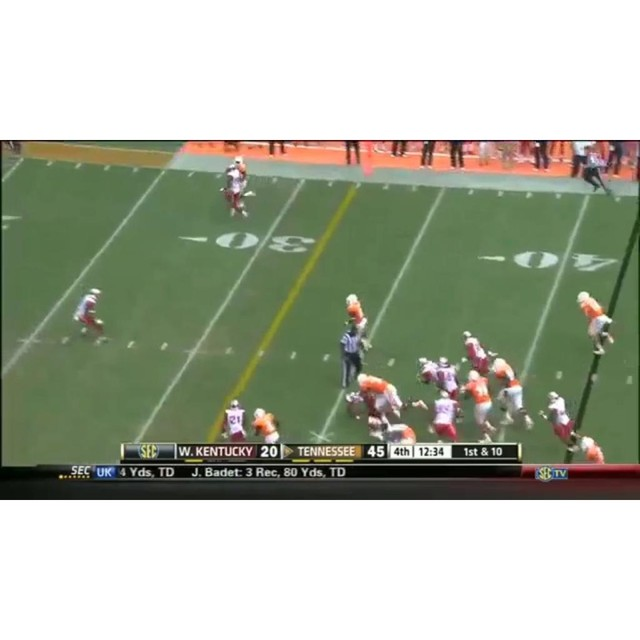american-football-player: (489, 355, 533, 431), (542, 391, 581, 456), (576, 292, 615, 356), (463, 370, 497, 442), (355, 372, 405, 419), (71, 286, 110, 344), (429, 390, 461, 442), (368, 412, 417, 444), (345, 293, 371, 353), (223, 161, 249, 220), (461, 330, 491, 379), (221, 398, 248, 442), (253, 407, 280, 443)
